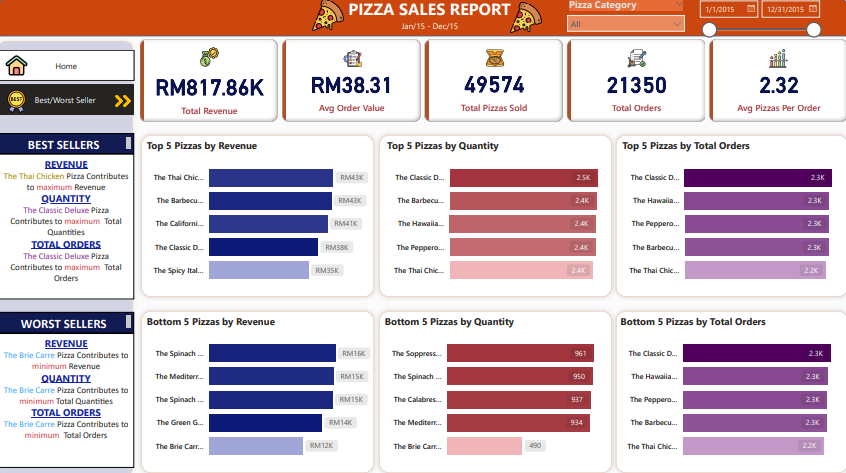

The dashboard page shown, as its layout file describes it:
{"tool":"powerbi","page":{"name":"Best/Worst Seller","canvas":[1500,820],"ordinal":1},"visuals":[{"type":"shape","box":[62.3,69.8,235.8,732.1],"z":0},{"type":"cardVisual","fields":{"Data":["pizzadb pizza_sales.Total Revenue","pizzadb pizza_sales.Avg Order Value","pizzadb pizza_sales.Total Pizzas Sold","pizzadb pizza_sales.Total Orders","pizzadb pizza_sales.Avg Pizzas Per Order"]},"box":[298.2,70.2,1177.2,143.9],"z":1000},{"type":"slicer","fields":{"Values":["pizzadb pizza_sales.order_date"]},"box":[1213.9,0,221.7,91.7],"z":2000,"group":"g1"},{"type":"shape","box":[68.6,2.9,1401.4,65.7],"z":2000},{"type":"textbox","box":[68.7,228.6,224,34.9],"z":3000},{"type":"textbox","box":[68.6,524.3,224.3,34.3],"z":4000},{"type":"textbox","box":[725,38.3,113.3,31.7],"z":5000},{"type":"shape","box":[298.1,224.5,398.1,281.1],"z":6000},{"type":"textbox","box":[68.6,262.9,224.3,240],"z":7000},{"type":"textbox","box":[68.6,558.6,224.3,222.9],"z":8000},{"type":"slicer","fields":{"Values":["pizzadb pizza_sales.pizza_category"]},"box":[998.3,0.6,213.3,66.7],"z":9000},{"type":"textbox","box":[626.7,0,308.3,46.7],"z":10000},{"type":"image","box":[583.3,0,60,68.3],"z":11000},{"type":"image","box":[910,3.3,60,68.3],"z":12000},{"type":"group","id":"g1","title":"Group 6","box":[1213.9,0,221.7,91.7],"z":13000},{"type":"shape","box":[690.6,224.5,398.1,281.1],"z":14000},{"type":"shape","box":[1081.1,224.5,398.1,281.1],"z":15000},{"type":"shape","box":[298.1,515.1,398.1,281.1],"z":16000},{"type":"shape","box":[690.6,515.1,398.1,281.1],"z":17000},{"type":"shape","box":[1081.1,515.1,398.1,281.1],"z":18000},{"type":"barChart","title":"Top 5 Pizzas by Revenue","fields":{"Category":["pizzadb pizza_sales.pizza_name"],"Y":["pizzadb pizza_sales.Total Revenue"]},"box":[309.4,237.7,381.1,252.8],"z":19000},{"type":"barChart","title":"Bottom 5 Pizzas by Revenue","fields":{"Category":["pizzadb pizza_sales.pizza_name"],"Y":["pizzadb pizza_sales.Total Revenue"]},"box":[309.4,528.3,381.1,252.8],"z":20000},{"type":"barChart","title":"Top 5 Pizzas by Quantity","fields":{"Category":["pizzadb pizza_sales.pizza_name"],"Y":["pizzadb pizza_sales.Total Pizzas Sold"]},"box":[705.7,237.7,381.1,252.8],"z":21000},{"type":"barChart","title":"Bottom 5 Pizzas by Quantity","fields":{"Category":["pizzadb pizza_sales.pizza_name"],"Y":["pizzadb pizza_sales.Total Pizzas Sold"]},"box":[701.9,528.3,381.1,252.8],"z":22000},{"type":"barChart","title":"Top  5 Pizzas by Total Orders","fields":{"Category":["pizzadb pizza_sales.pizza_name"],"Y":["pizzadb pizza_sales.Total Orders"]},"box":[1094.3,237.7,381.1,252.8],"z":23000},{"type":"barChart","title":"Bottom 5 Pizzas by Total Orders","fields":{"Category":["pizzadb pizza_sales.pizza_name"],"Y":["pizzadb pizza_sales.Total Orders"]},"box":[1090.6,528.3,381.1,252.8],"z":24000},{"type":"pageNavigator","box":[68.6,91.9,224.4,50],"z":25000},{"type":"pageNavigator","box":[67.4,147.7,224.4,50],"z":26000},{"type":"image","box":[76.1,78.4,45.5,76.1],"z":27000},{"type":"image","box":[76.1,136.4,45.5,78.4],"z":28000},{"type":"image","box":[256.8,142,35.2,65.9],"z":29000}]}

Visuals, with their boxes in screenshot pixels (x1, y1, x2, y2), scaled from the page's 1500x820 canvas onto the 846x473 screenshot:
shape: rect(35, 40, 168, 463)
cardVisual - pizzadb pizza_sales.Total Revenue x pizzadb pizza_sales.Avg Order Value: rect(168, 40, 832, 123)
slicer - pizzadb pizza_sales.order_date: rect(685, 0, 810, 53)
shape: rect(39, 2, 829, 40)
textbox: rect(39, 132, 165, 152)
textbox: rect(39, 302, 165, 322)
textbox: rect(409, 22, 473, 40)
shape: rect(168, 129, 393, 292)
textbox: rect(39, 152, 165, 290)
textbox: rect(39, 322, 165, 451)
slicer - pizzadb pizza_sales.pizza_category: rect(563, 0, 683, 39)
textbox: rect(353, 0, 527, 27)
image: rect(329, 0, 363, 39)
image: rect(513, 2, 547, 41)
"Group 6" group: rect(685, 0, 810, 53)
shape: rect(389, 129, 614, 292)
shape: rect(610, 129, 834, 292)
shape: rect(168, 297, 393, 459)
shape: rect(389, 297, 614, 459)
shape: rect(610, 297, 834, 459)
"Top 5 Pizzas by Revenue" barChart: rect(175, 137, 389, 283)
"Bottom 5 Pizzas by Revenue" barChart: rect(175, 305, 389, 451)
"Top 5 Pizzas by Quantity" barChart: rect(398, 137, 613, 283)
"Bottom 5 Pizzas by Quantity" barChart: rect(396, 305, 611, 451)
"Top  5 Pizzas by Total Orders" barChart: rect(617, 137, 832, 283)
"Bottom 5 Pizzas by Total Orders" barChart: rect(615, 305, 830, 451)
pageNavigator: rect(39, 53, 165, 82)
pageNavigator: rect(38, 85, 165, 114)
image: rect(43, 45, 69, 89)
image: rect(43, 79, 69, 124)
image: rect(145, 82, 165, 120)
